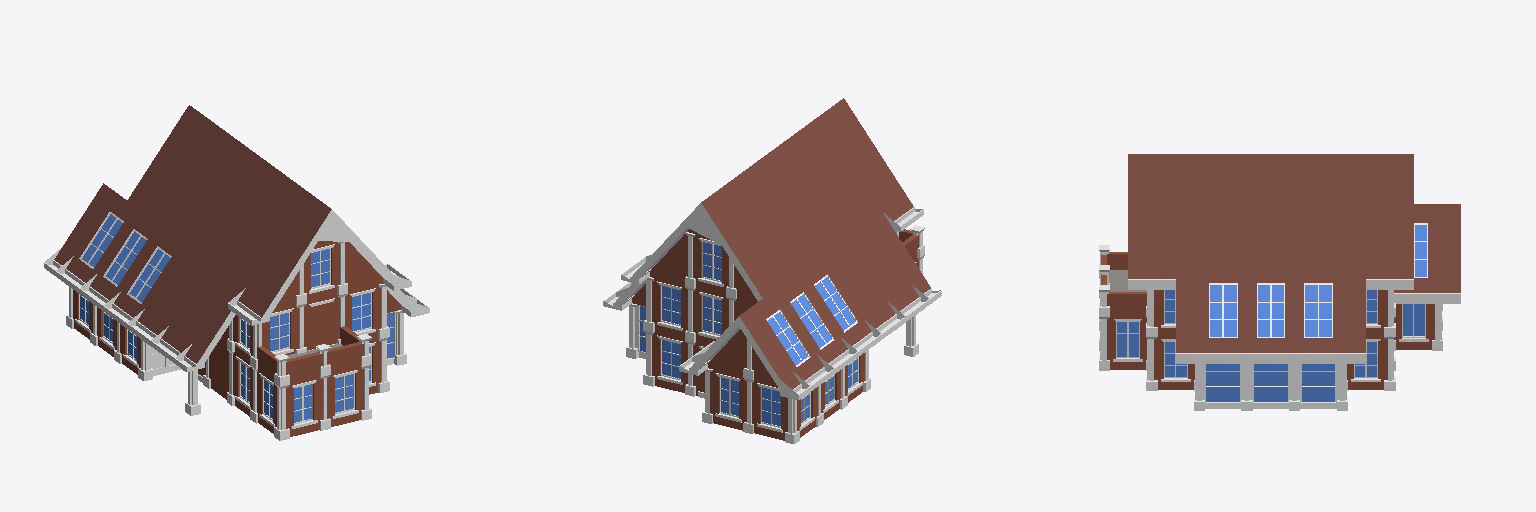
3 renders of one model, left to right at view 1: azimuth 30°, elevation 25°; view 2: azimuth 150°, elevation 25°; view 3: azimuth 270°, elevation 25°, orthographic.
Parts seen in each view (by area): view 1: Mesh125 Component_50_2 Model, Mesh141 Component_46_1 Model, Mesh257 Component_46_11 Model, Mesh124 Component_50_1 Model, Mesh245 Component_46_3 Model, Mesh249 Component_46_5 Model, Mesh254 Component_46_9 Model, Mesh256 Component_46_10 Model, Mesh126 Component_50_3 Model, Mesh142 Component_46_2 Model, Mesh26 Component_40_2 Model, Mesh25 Component_40_1 Model (+28 smaller); view 2: Mesh245 Component_46_3 Model, Mesh126 Component_50_3 Model, Mesh142 Component_46_2 Model, Mesh256 Component_46_10 Model, Mesh257 Component_46_11 Model, Mesh124 Component_50_1 Model, Mesh125 Component_50_2 Model, Mesh141 Component_46_1 Model, Mesh249 Component_46_5 Model, Mesh254 Component_46_9 Model, Mesh43 Component_40_10 Model, Mesh133 Component_40_16 Model (+28 smaller); view 3: Mesh228 Component_50_7 Model, Mesh246 Component_46_4 Model, Mesh252 Component_46_7 Model, Mesh258 Component_46_12 Model, Mesh226 Component_50_5 Model, Mesh227 Component_50_6 Model, Mesh250 Component_46_6 Model, Mesh253 Component_46_8 Model, Mesh27 Component_40_3 Model, Mesh42 Component_40_9 Model, Mesh127 Component_50_4 Model, Mesh247 Component_42_1 Model (+28 smaller).
Boxes of the visible parts, x1,y1,x2,y2 form: Mesh125 Component_50_2 Model: [98, 210, 162, 289]; Mesh141 Component_46_1 Model: [146, 245, 210, 324]; Mesh257 Component_46_11 Model: [139, 145, 203, 225]; Mesh124 Component_50_1 Model: [122, 227, 186, 307]; Mesh245 Component_46_3 Model: [235, 215, 298, 295]; Mesh249 Component_46_5 Model: [211, 198, 274, 278]; Mesh254 Component_46_9 Model: [187, 180, 251, 260]; Mesh256 Component_46_10 Model: [163, 163, 227, 243]; Mesh126 Component_50_3 Model: [74, 192, 138, 272]; Mesh142 Component_46_2 Model: [169, 262, 233, 341]; Mesh26 Component_40_2 Model: [327, 366, 363, 426]; Mesh25 Component_40_1 Model: [286, 376, 322, 436]; Mesh245 Component_46_3 Model: [829, 139, 893, 219]; Mesh126 Component_50_3 Model: [751, 290, 815, 370]; Mesh142 Component_46_2 Model: [846, 220, 910, 300]; Mesh256 Component_46_10 Model: [758, 191, 821, 271]; Mesh257 Component_46_11 Model: [734, 208, 797, 288]; Mesh124 Component_50_1 Model: [799, 255, 862, 335]; Mesh125 Component_50_2 Model: [775, 272, 839, 352]; Mesh141 Component_46_1 Model: [823, 238, 886, 318]; Mesh249 Component_46_5 Model: [805, 156, 869, 236]; Mesh254 Component_46_9 Model: [782, 174, 845, 254]; Mesh43 Component_40_10 Model: [710, 370, 746, 430]; Mesh133 Component_40_16 Model: [652, 278, 687, 338]; Mesh228 Component_50_7 Model: [1247, 265, 1294, 338]; Mesh246 Component_46_4 Model: [1152, 191, 1199, 264]; Mesh252 Component_46_7 Model: [1247, 191, 1294, 264]; Mesh258 Component_46_12 Model: [1342, 191, 1389, 264]; Mesh226 Component_50_5 Model: [1200, 265, 1246, 338]; Mesh227 Component_50_6 Model: [1295, 265, 1341, 338]; Mesh250 Component_46_6 Model: [1200, 191, 1246, 264]; Mesh253 Component_46_8 Model: [1295, 191, 1341, 264]; Mesh27 Component_40_3 Model: [1107, 316, 1146, 369]; Mesh42 Component_40_9 Model: [1394, 304, 1434, 349]; Mesh127 Component_50_4 Model: [1414, 204, 1437, 277]; Mesh247 Component_42_1 Model: [1152, 154, 1199, 190].
Size of the model in its own units: 23.6 by 19 by 30.48.
8 materials, 1 textured.